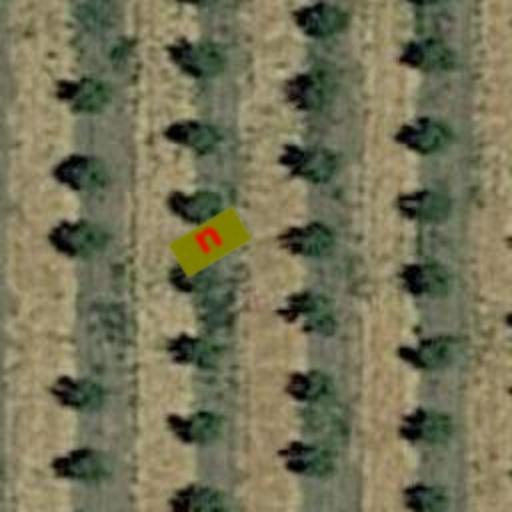rectangle: (158, 190, 262, 294)
